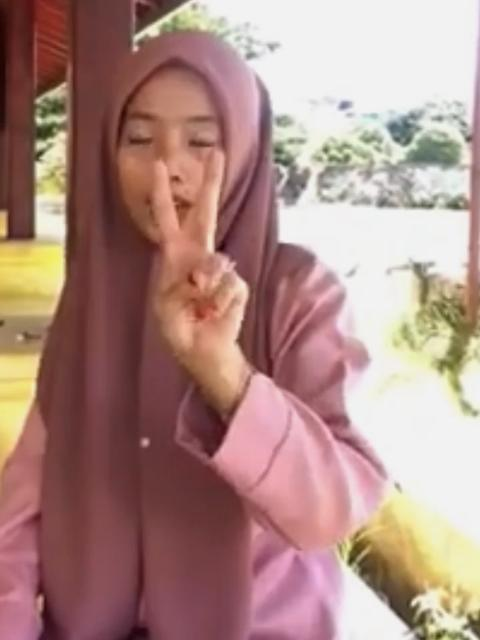V: (144, 148, 254, 374)
